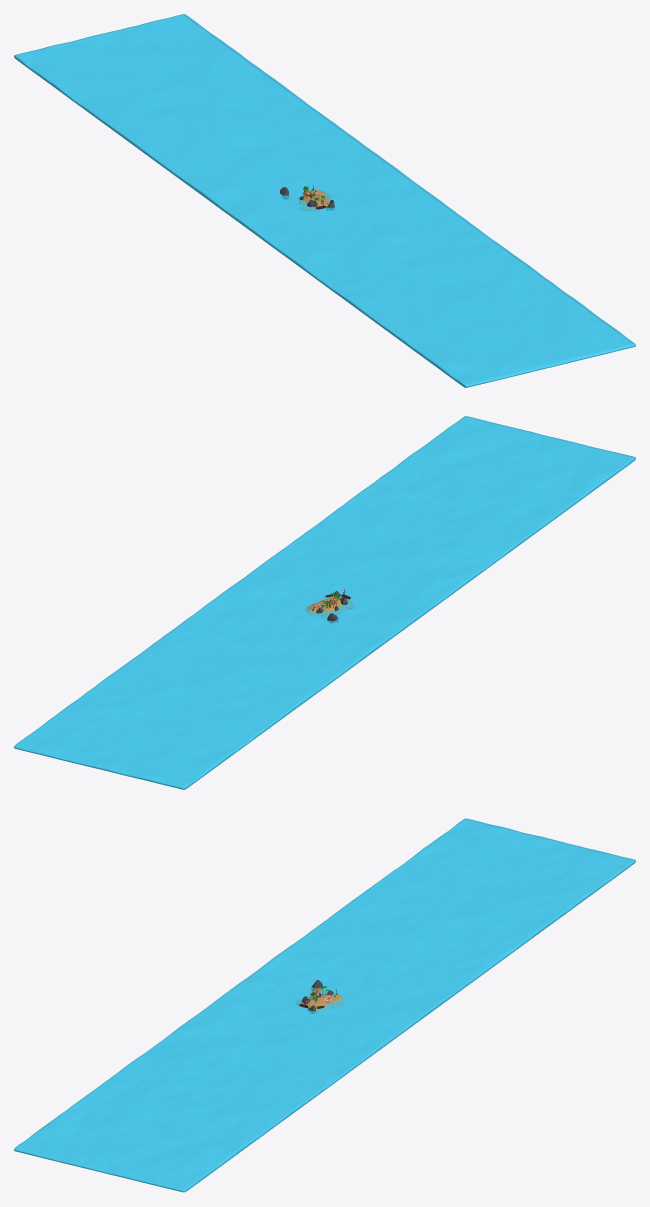
File: oyeoiiisland.glb
The picture shows the model from 3 angles, top to bottom: view 1: azimuth 30°, elevation 25°; view 2: azimuth 150°, elevation 25°; view 3: azimuth 330°, elevation 25°; orthographic projection.
Parts seen in each view (by area): view 1: Plane; view 2: Plane; view 3: Plane.
Part boxes in pixels (left/top/right/bottom): Plane: left=14, top=14, right=635, bottom=387; Plane: left=14, top=416, right=635, bottom=789; Plane: left=14, top=818, right=635, bottom=1192.
Bounding box in the file's own units: 26.97 × 2.05 × 123.
